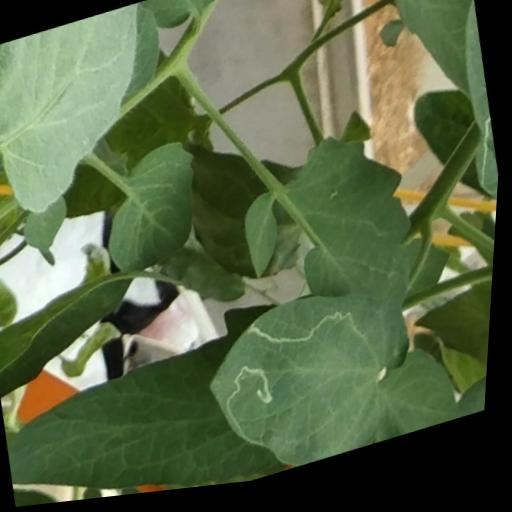Healthy: (0, 0, 182, 232), (89, 137, 220, 287), (369, 0, 496, 133), (234, 195, 295, 292)
Leaf_Miner: (195, 271, 436, 493)
